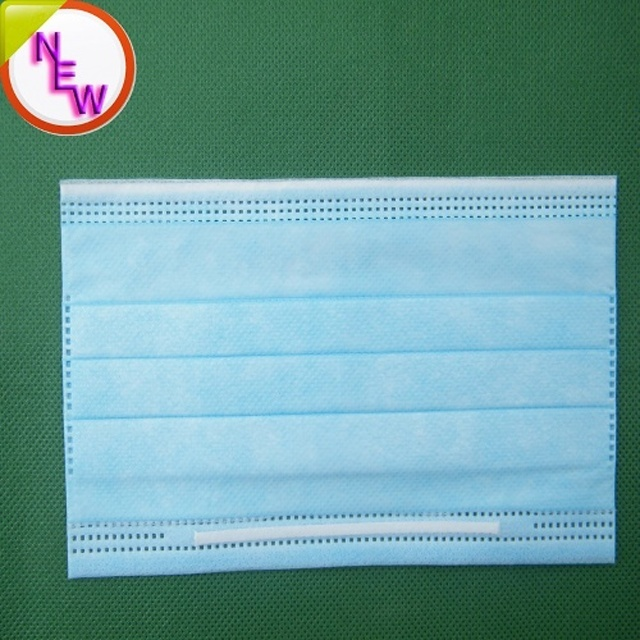mask: (56, 169, 624, 588)
